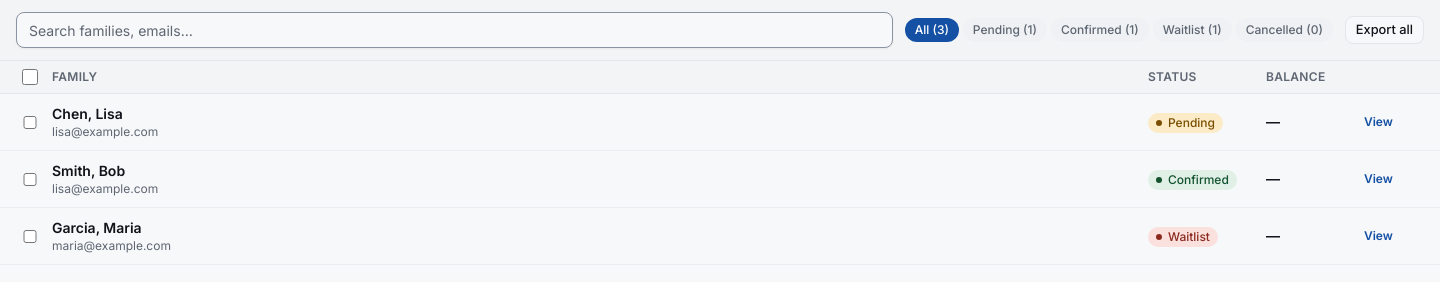
FamiliesTable › filters rows by search text (name match)
Type "chen" into the field with placeholder "Search families, emails…".
click(454, 30); type("chen")  # box [16,12,893,48]
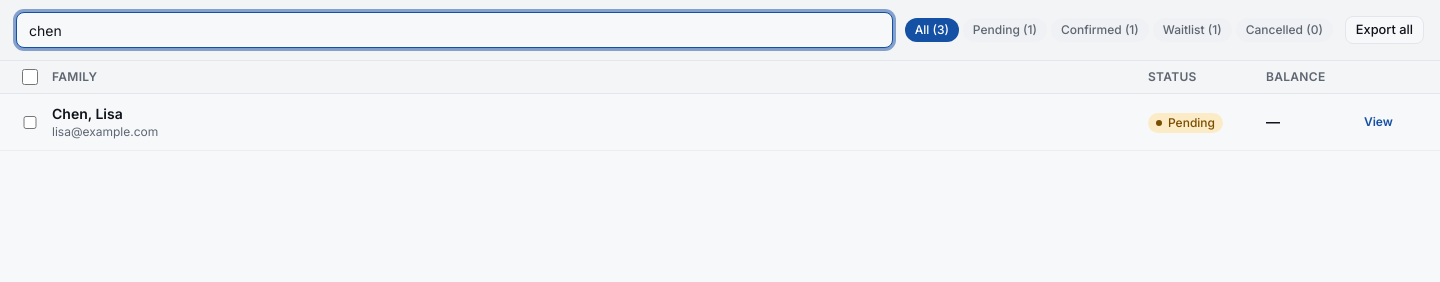
expect the text "Chen, Lisa" is shown: met, box [52,105,123,122]
expect the text "Smith, Bob" is gone: met
